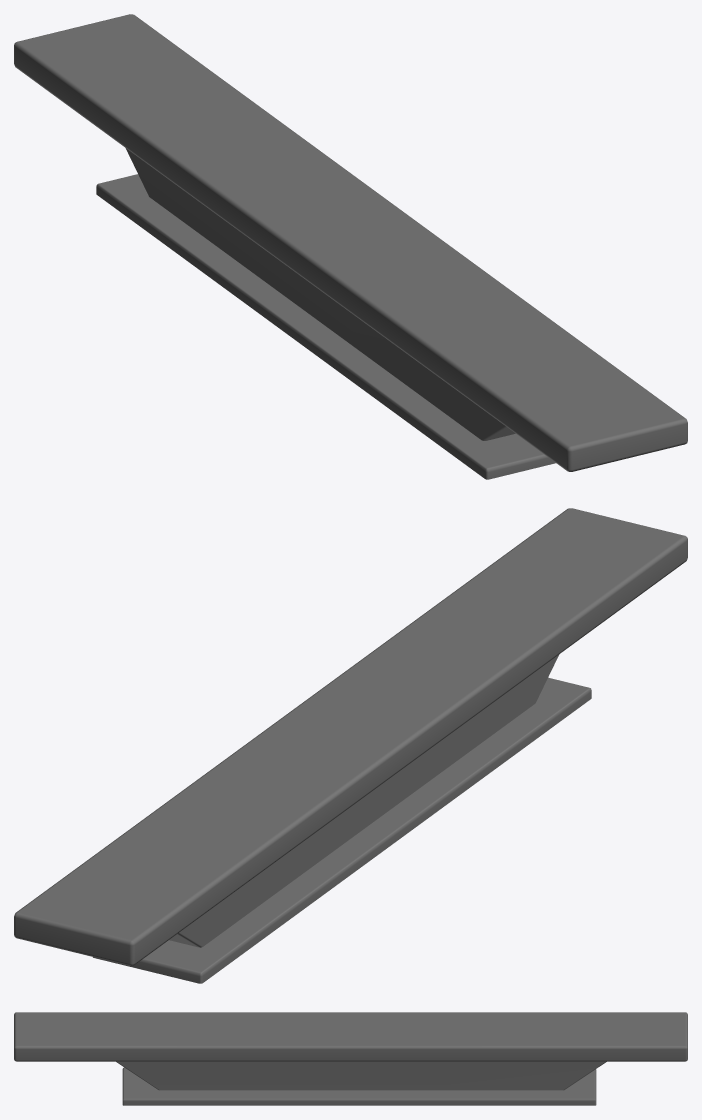
File: SM_Props_BenchCafeteria_A_V3.fbx
3 views of the same model, one above another, from view 1: azimuth 30°, elevation 25°; view 2: azimuth 150°, elevation 25°; view 3: azimuth 270°, elevation 25° (orthographic). The views are drawn at different scales.
Parts seen in each view (by area): view 1: SM_Props_BenchCafeteria_A_V3; view 2: SM_Props_BenchCafeteria_A_V3; view 3: SM_Props_BenchCafeteria_A_V3.
Part boxes in pixels (<box>): SM_Props_BenchCafeteria_A_V3: <box>14,14,687,479</box>; SM_Props_BenchCafeteria_A_V3: <box>14,508,687,983</box>; SM_Props_BenchCafeteria_A_V3: <box>14,1012,687,1105</box>.
Size of the model in its own units: 57.87 by 462 by 45.28.
Materials: 1 (1 with a texture image).
